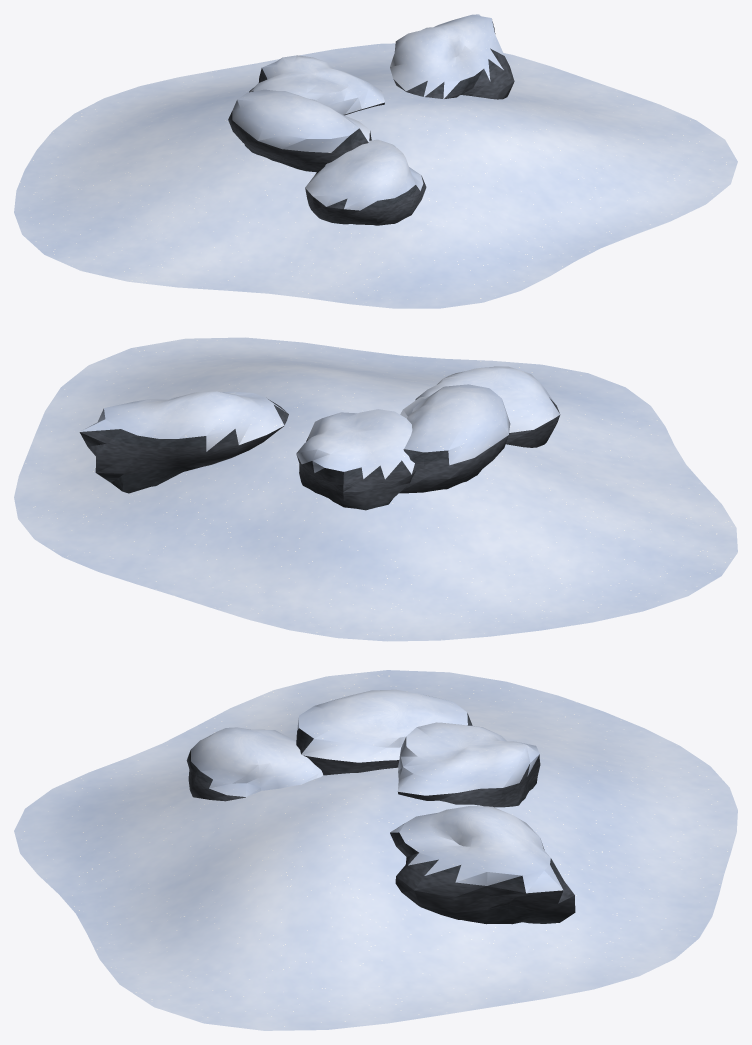
Rendered from SM_Snow_RockCluster_A.glb.
3 views of the same model, one above another, from view 1: azimuth 30°, elevation 25°; view 2: azimuth 150°, elevation 25°; view 3: azimuth 270°, elevation 25° (orthographic). The views are drawn at different scales.
Parts seen in each view (by area): view 1: SM_Snow_RockCluster_A; view 2: SM_Snow_RockCluster_A; view 3: SM_Snow_RockCluster_A.
Part boxes in pixels (x1,y1,x2,y2): SM_Snow_RockCluster_A: (14,14,737,308); SM_Snow_RockCluster_A: (14,337,737,641); SM_Snow_RockCluster_A: (14,670,737,1030).
Bounding box in the file's own units: 2.35 × 0.3419 × 1.99.
2 materials, 2 textured.
